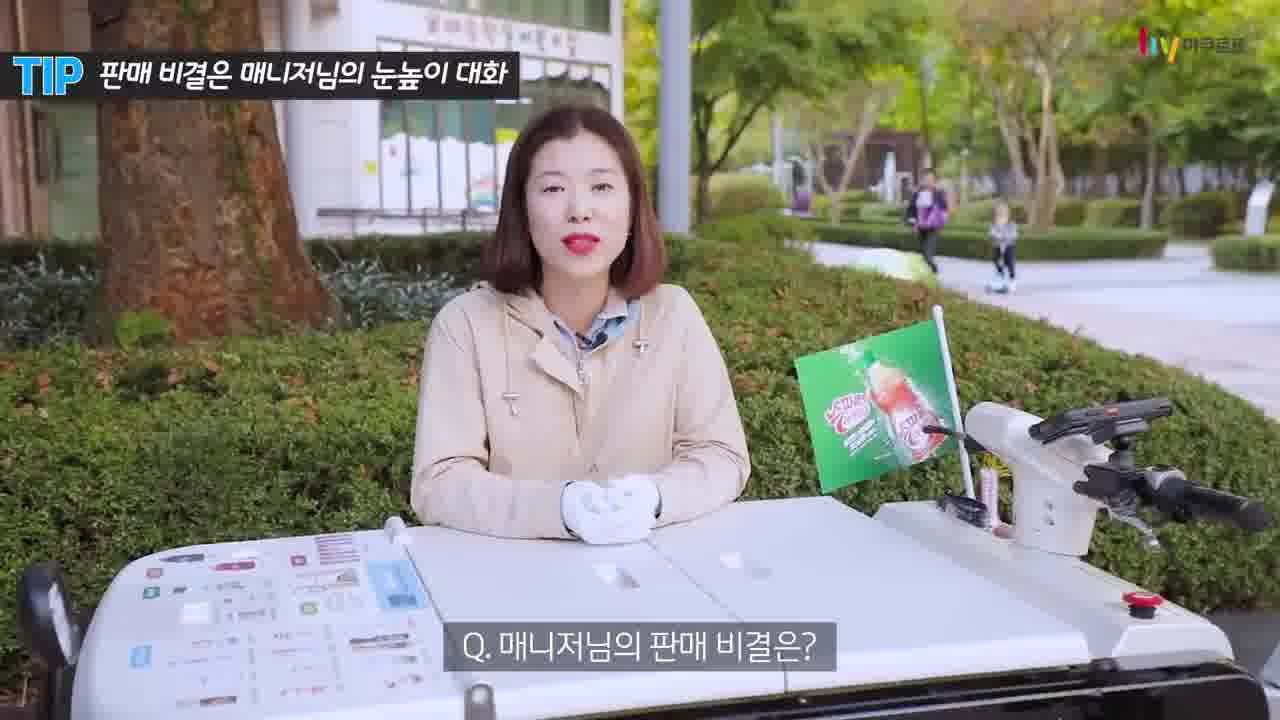Yakurut: (403, 98, 770, 549)
